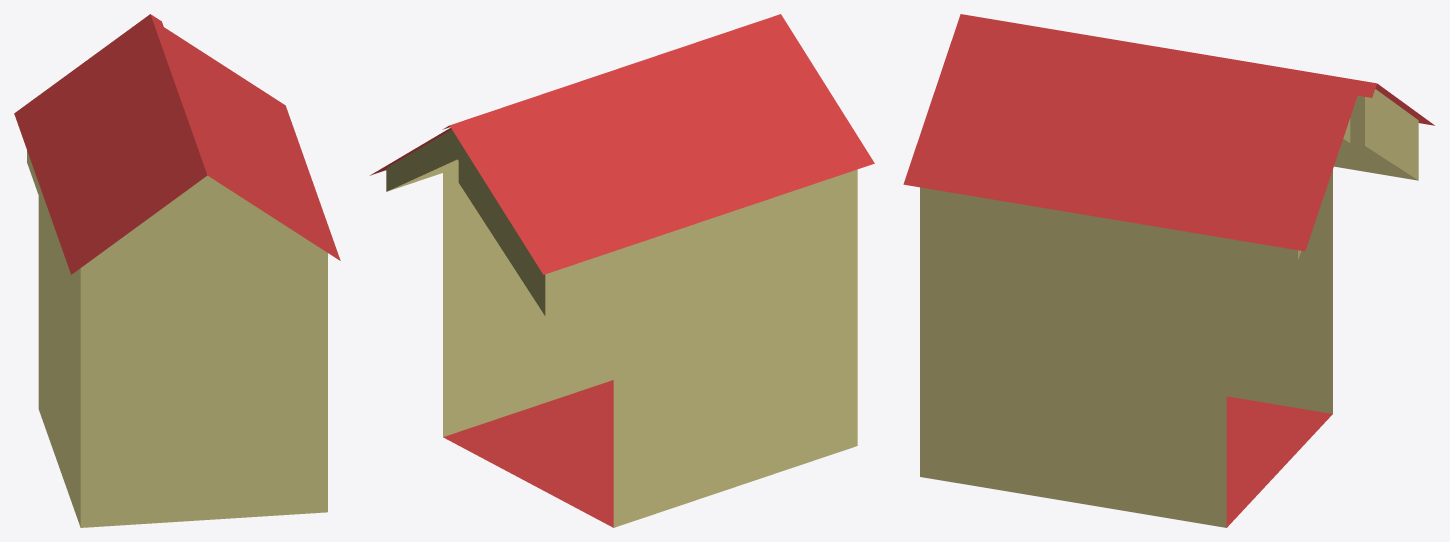
3 views of the same model, side by side, from view 1: azimuth 30°, elevation 25°; view 2: azimuth 150°, elevation 25°; view 3: azimuth 270°, elevation 25° (orthographic). The views are drawn at different scales.
Bounding box in the file's own units: 17.43 × 20.52 × 17.21.
